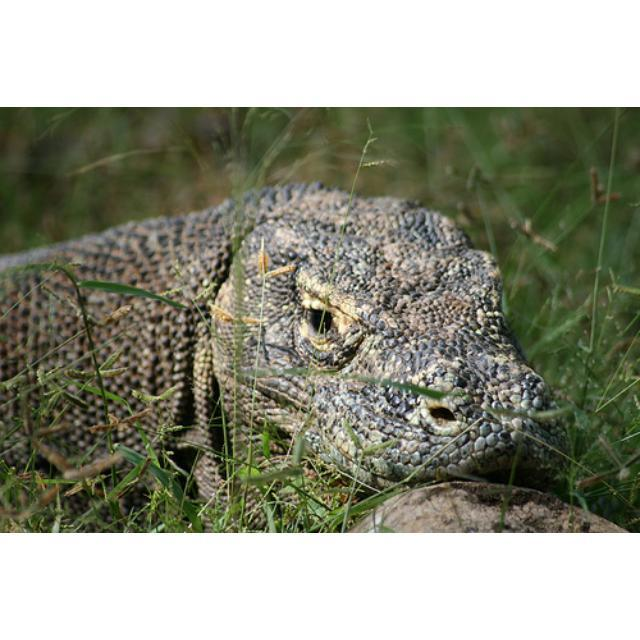KomodoDragon: (1, 178, 568, 531)
